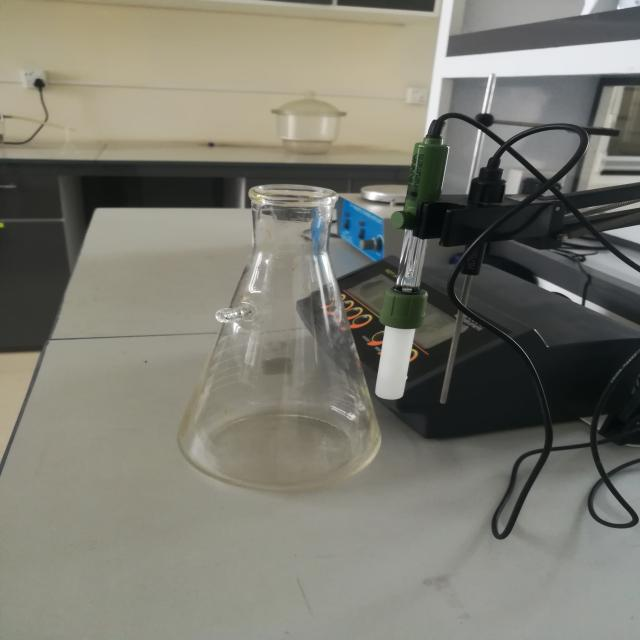Conical_Flask: (136, 144, 433, 527)
